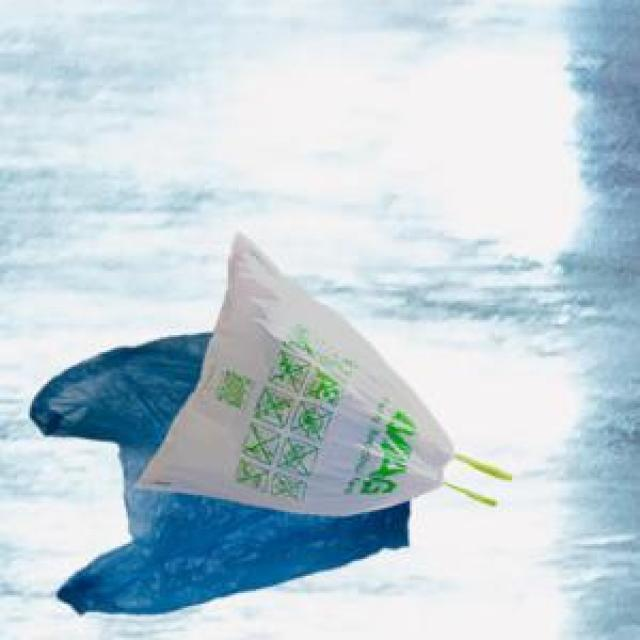plastic: (15, 215, 536, 623)
